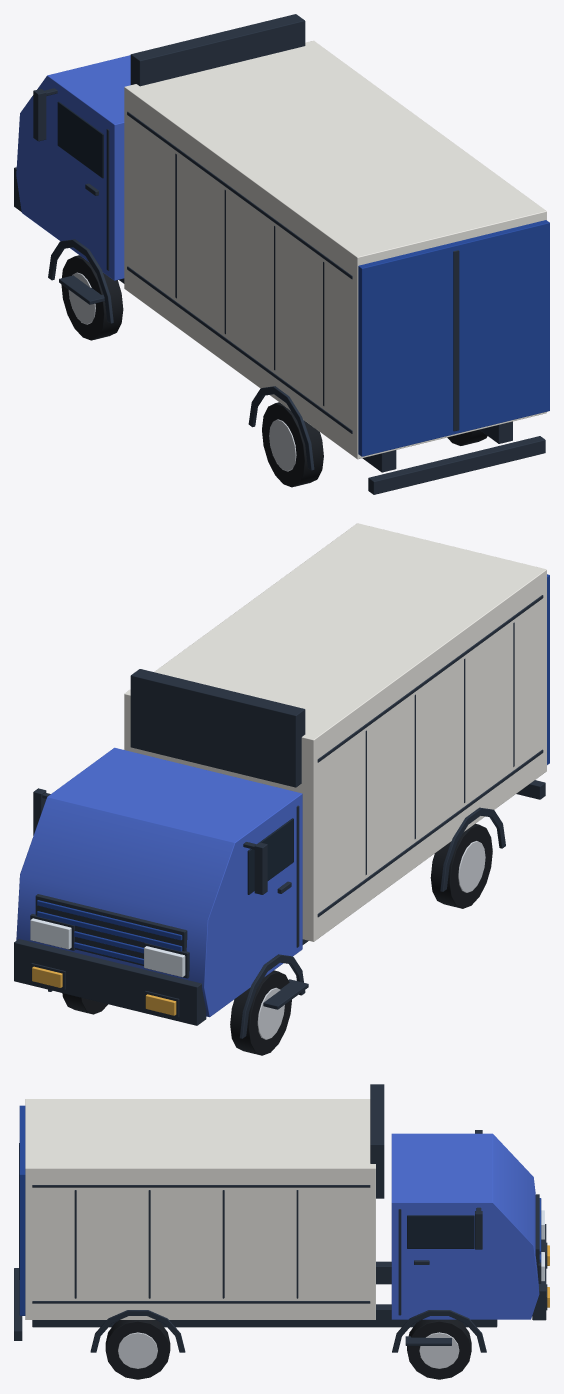
Rendered from veh_truck_box_01.glb.
The picture shows the model from 3 angles, top to bottom: view 1: azimuth 30°, elevation 25°; view 2: azimuth 150°, elevation 25°; view 3: azimuth 270°, elevation 25°; orthographic projection. The views are drawn at different scales.
Visible parts, largest first — view 1: VEH_TRUCK_BOX_01_ROOT; view 2: VEH_TRUCK_BOX_01_ROOT; view 3: VEH_TRUCK_BOX_01_ROOT.
Boxes of the visible parts, x1=… form: VEH_TRUCK_BOX_01_ROOT: x1=14, y1=14, x2=549, y2=494; VEH_TRUCK_BOX_01_ROOT: x1=14, y1=523, x2=549, y2=1055; VEH_TRUCK_BOX_01_ROOT: x1=14, y1=1084, x2=549, y2=1379.
Size of what is drawn, in the model's own units: 2.83 by 3.62 by 7.61.
